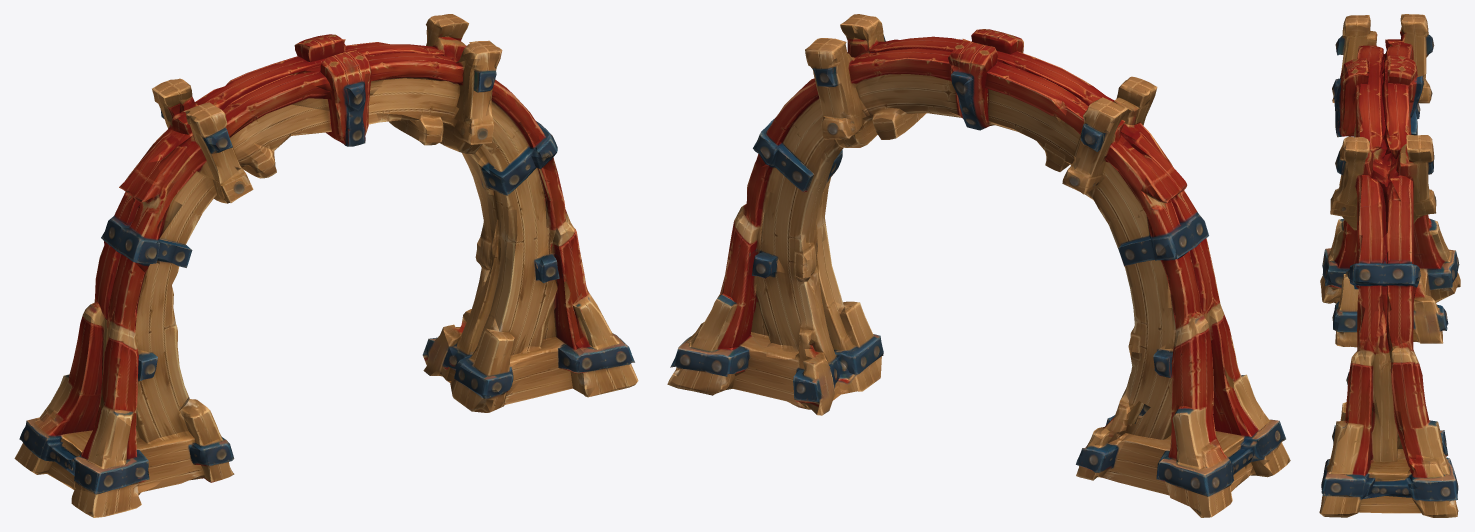
Rendered from crash-oak-arch.glb.
3 views of the same model, side by side, from view 1: azimuth 30°, elevation 25°; view 2: azimuth 150°, elevation 25°; view 3: azimuth 270°, elevation 25° (orthographic). The views are drawn at different scales.
Visible parts, largest first — view 1: Oak arch rigid orientation and uniform 14m width; view 2: Oak arch rigid orientation and uniform 14m width; view 3: Oak arch rigid orientation and uniform 14m width.
Part boxes in pixels (left/top/right/bottom): Oak arch rigid orientation and uniform 14m width: left=14, top=14, right=638, bottom=517; Oak arch rigid orientation and uniform 14m width: left=667, top=14, right=1290, bottom=517; Oak arch rigid orientation and uniform 14m width: left=1319, top=14, right=1460, bottom=517.
Bounding box in the file's own units: 14 × 9.37 × 3.51.
Materials: 1 (1 with a texture image).
